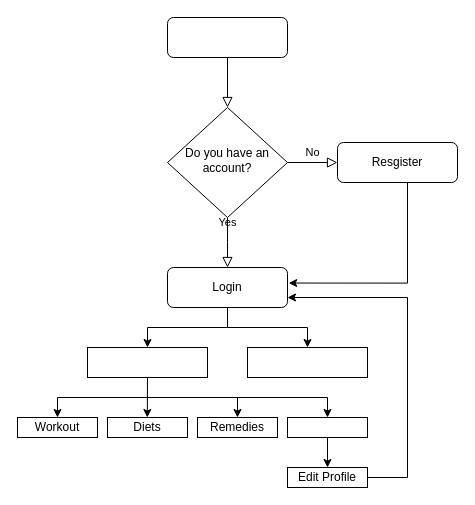
Some shapes in this 475 by 505 pixel diagram are drawn without their labels. Here are the shapes that lost their labels. From the top down, the centre of each, then its label:
At (227,37): "START".
At (147,362): "Homepage".
At (307,362): "Precautions".
At (327,427): "Profile".
